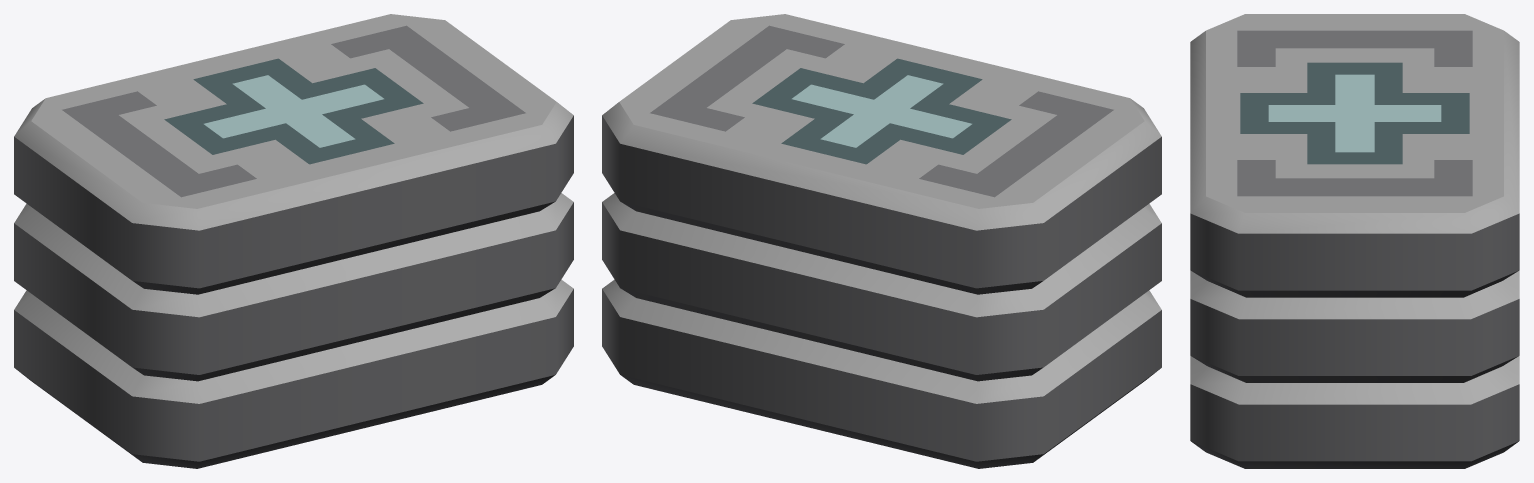
The model's file is item_medicine_ultratech_c.obj.
3 views of the same model, side by side, from view 1: azimuth 30°, elevation 25°; view 2: azimuth 150°, elevation 25°; view 3: azimuth 270°, elevation 25° (orthographic).
Parts seen in each view (by area): view 1: item_medicine_ultratech_c; view 2: item_medicine_ultratech_c; view 3: item_medicine_ultratech_c.
Part boxes in pixels (x1=…): item_medicine_ultratech_c: x1=14, y1=14, x2=573, y2=468; item_medicine_ultratech_c: x1=602, y1=14, x2=1161, y2=468; item_medicine_ultratech_c: x1=1190, y1=14, x2=1519, y2=468.
Size of the model in its own units: 0.672 by 0.378 by 0.441.
